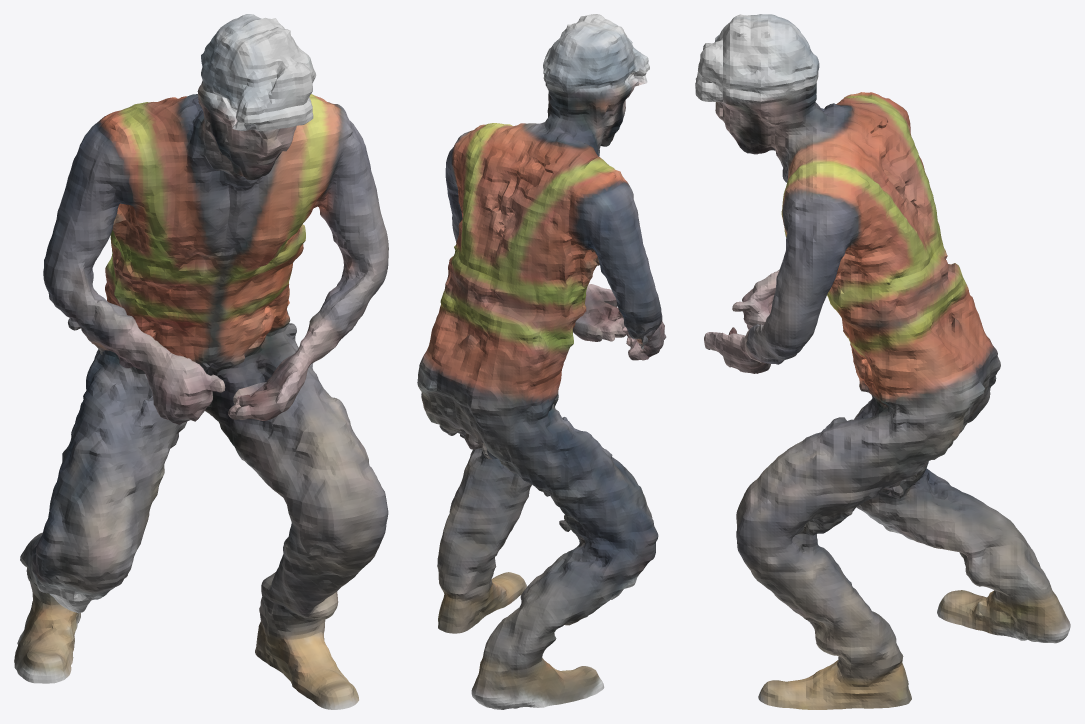
File: standup_9.glb
3 views of the same model, side by side, from view 1: azimuth 30°, elevation 25°; view 2: azimuth 150°, elevation 25°; view 3: azimuth 270°, elevation 25° (orthographic). The views are drawn at different scales.
Visible parts, largest first — view 1: world; view 2: world; view 3: world.
Part boxes in pixels (bbox=[...]): world: bbox=[14, 14, 388, 709]; world: bbox=[417, 14, 666, 709]; world: bbox=[695, 14, 1070, 709].
Bounding box in the file's own units: 0.7028 × 1.59 × 0.8502.
